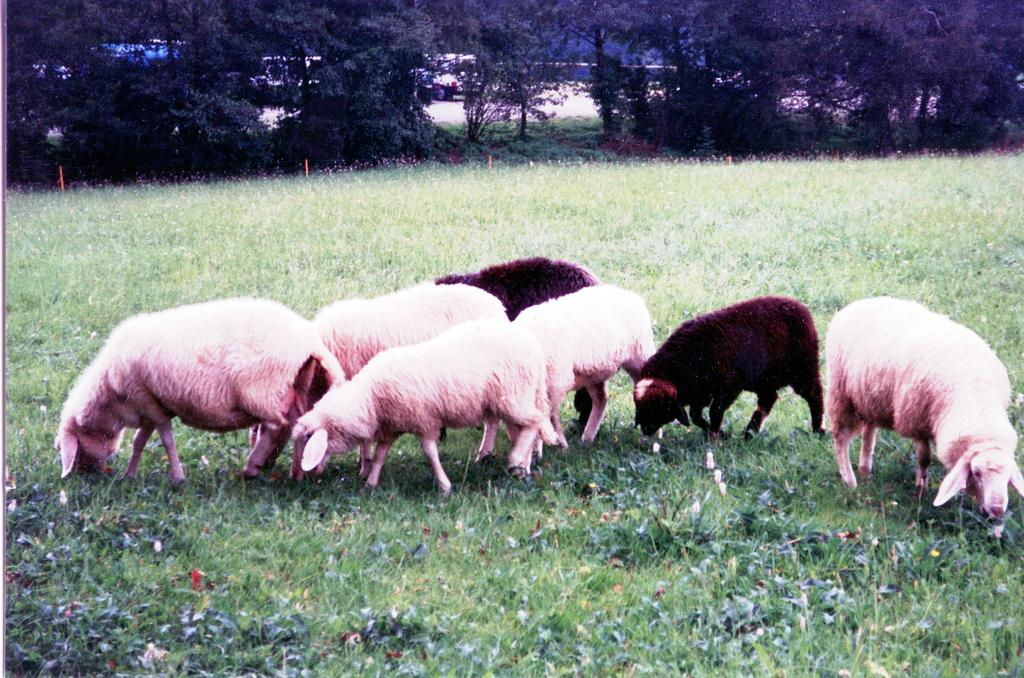Sheep: (58, 300, 338, 487), (826, 297, 1019, 521), (290, 321, 541, 492), (629, 297, 823, 445), (496, 283, 656, 455), (313, 282, 503, 379), (432, 257, 601, 321)
